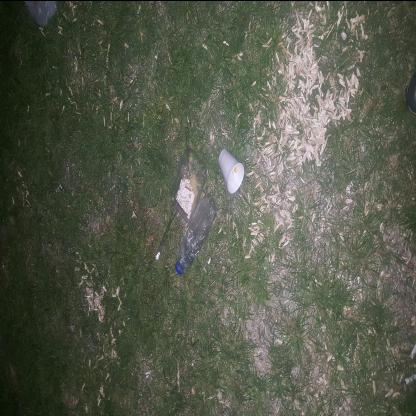karton: (147, 172, 193, 198)
plastik: (192, 198, 274, 241), (147, 209, 221, 244), (192, 235, 260, 261), (169, 164, 208, 188), (126, 225, 190, 231)
